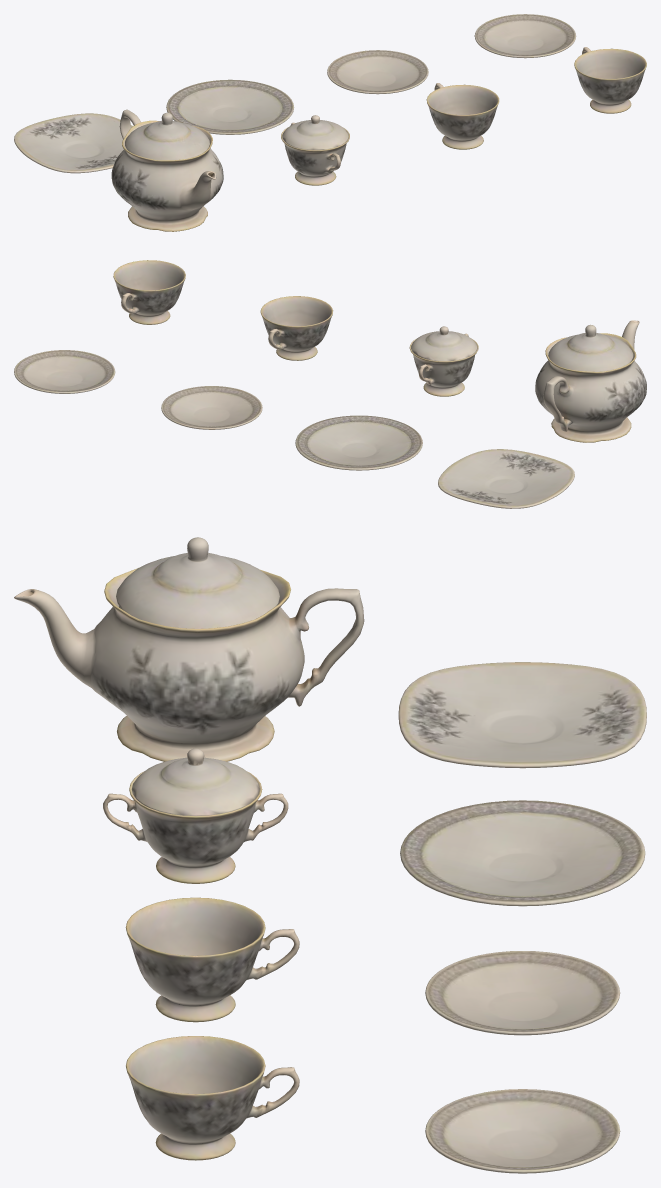
File: tea_set_01.glb
The picture shows the model from 3 angles, top to bottom: view 1: azimuth 30°, elevation 25°; view 2: azimuth 150°, elevation 25°; view 3: azimuth 270°, elevation 25°; orthographic projection. The views are drawn at different scales.
Visible parts, largest first — view 1: tea_set_01_plate_large_square_01; view 2: tea_set_01_plate_large_square_01; view 3: tea_set_01_plate_large_square_01.
Boxes of the visible parts, x1,y1,x2,y2 form: tea_set_01_plate_large_square_01: (14, 14, 646, 231); tea_set_01_plate_large_square_01: (14, 260, 646, 508); tea_set_01_plate_large_square_01: (14, 537, 646, 1173).
Size of the model in its own units: 0.9185 by 0.1649 by 0.4839.
1 material, 1 textured.
